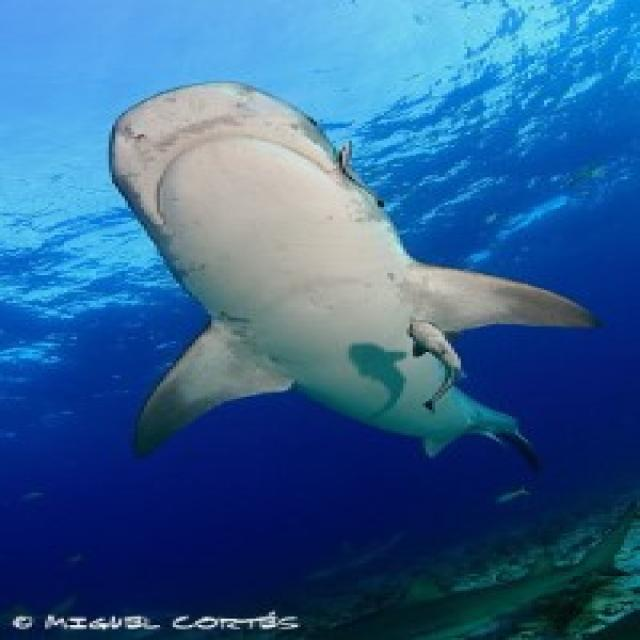Shark: (97, 67, 604, 496)
